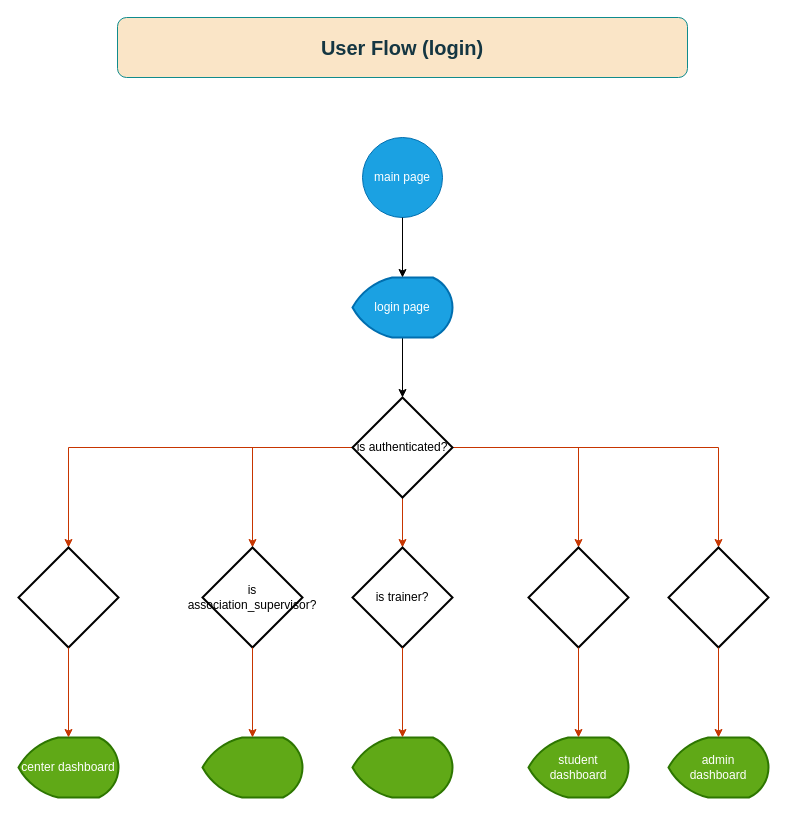
Image size: 786x816. Some labels were removed from this diagram. Here are the shapes that lost their labels. From the top down, the box of each, then its label:
(17, 546, 119, 648): is center_supervisor?
(527, 546, 629, 648): is student
(667, 546, 769, 648): is admin
(201, 736, 303, 798): association dashboard
(351, 736, 453, 798): trainer dashboard
